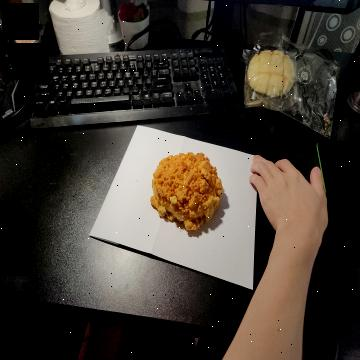soboru_bread: (151, 150, 226, 238)
